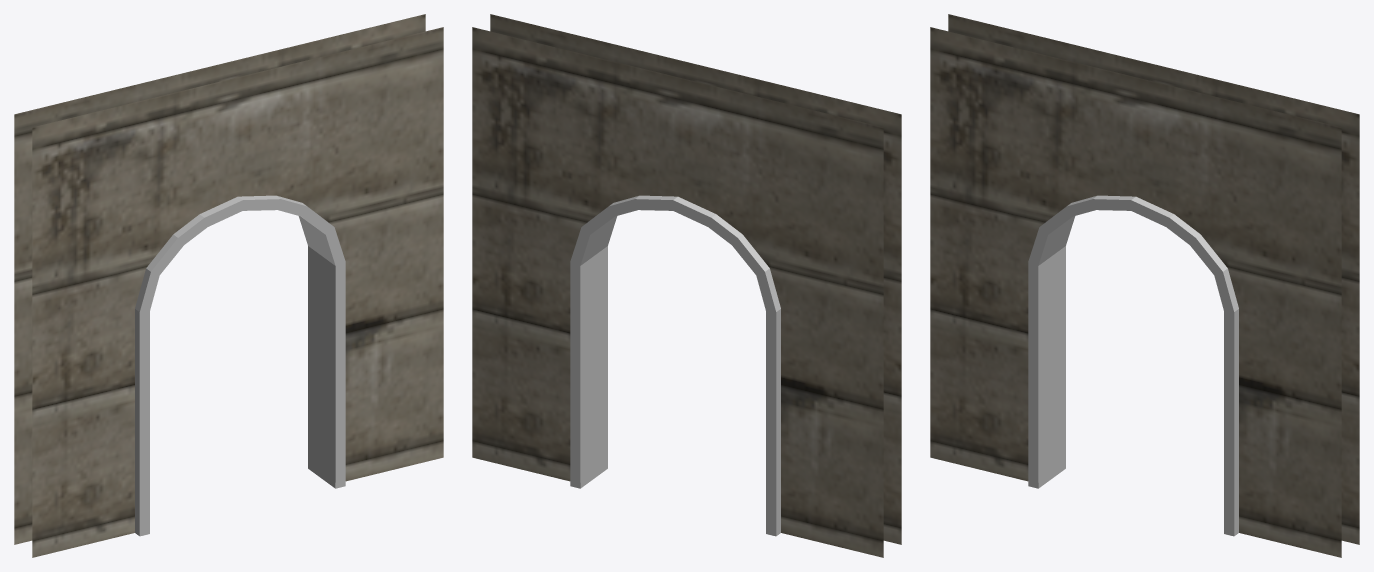
File: MO_WALL_S_DOOR_07.fbx
3 views of the same model, side by side, from view 1: azimuth 30°, elevation 25°; view 2: azimuth 150°, elevation 25°; view 3: azimuth 330°, elevation 25° (orthographic).
Visible parts, largest first — view 1: MO_WALL_S_DOOR_07; view 2: MO_WALL_S_DOOR_07; view 3: MO_WALL_S_DOOR_07.
Part boxes in pixels (x1=…): MO_WALL_S_DOOR_07: x1=14, y1=14, x2=443, y2=557; MO_WALL_S_DOOR_07: x1=472, y1=14, x2=901, y2=557; MO_WALL_S_DOOR_07: x1=930, y1=14, x2=1359, y2=557.
Size of the model in its own units: 4 by 4 by 0.464.
